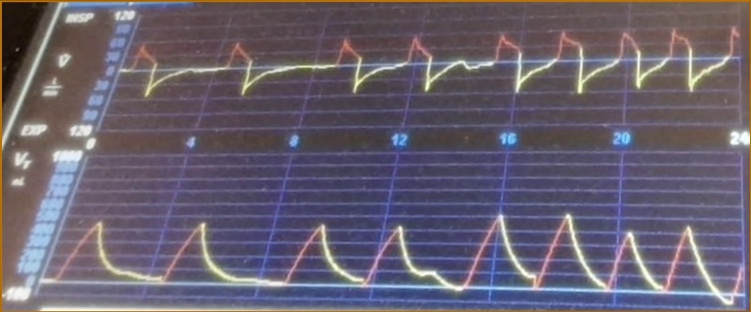Ineffective_effort Flow: (128, 20, 739, 114)
Ineffective_effort Volume: (52, 207, 745, 304)
